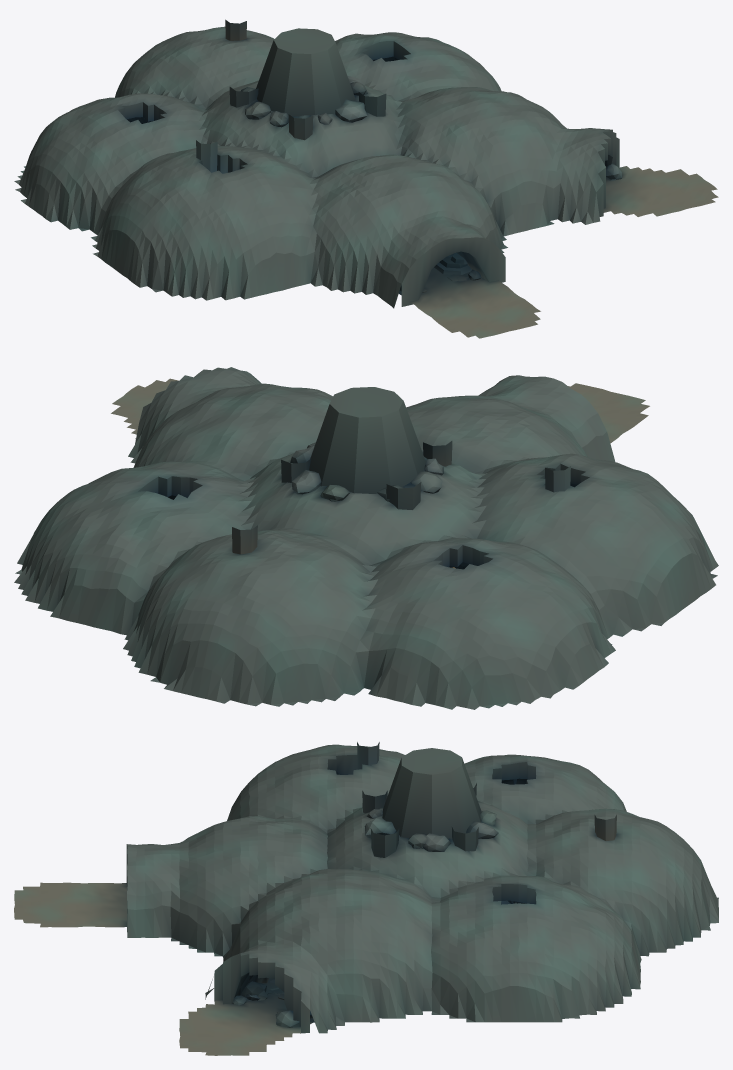
File: cave.glb
3 views of the same model, one above another, from view 1: azimuth 30°, elevation 25°; view 2: azimuth 150°, elevation 25°; view 3: azimuth 270°, elevation 25° (orthographic). The views are drawn at different scales.
Parts seen in each view (by area): view 1: rock_4_3, rock_4_4, rock_5_4, rock_5_3, rock_3_4, rock_3_5, rock_4_5, rock_6_3, rock_3_3, rock_5_5, rock_6_4, rock_6_5 (+5 smaller); view 2: rock_4_6, rock_4_5, rock_3_4, rock_5_5, rock_5_6, rock_3_5, rock_4_4, rock_3_6, rock_6_4, rock_5_4, rock_4_3, rock_6_6 (+5 smaller); view 3: rock_6_4, rock_6_5, rock_5_5, rock_5_3, rock_5_6, rock_5_4, rock_4_4, rock_6_3, rock_4_5, rock_6_6, rock_4_3, rock_5_2 (+5 smaller).
Part boxes in pixels (bbox=[...]): rock_4_3: bbox=[249, 169, 456, 308]; rock_4_4: bbox=[172, 48, 380, 206]; rock_5_4: bbox=[311, 43, 513, 168]; rock_5_3: bbox=[381, 141, 539, 293]; rock_3_4: bbox=[91, 140, 248, 293]; rock_3_5: bbox=[14, 101, 170, 235]; rock_4_5: bbox=[96, 40, 277, 153]; rock_6_3: bbox=[514, 132, 692, 227]; rock_3_3: bbox=[167, 207, 274, 300]; rock_5_5: bbox=[228, 28, 436, 101]; rock_6_4: bbox=[455, 87, 646, 182]; rock_6_5: bbox=[361, 32, 501, 91]; rock_4_6: bbox=[198, 540, 433, 706]; rock_4_5: bbox=[275, 410, 524, 608]; rock_3_4: bbox=[525, 464, 717, 636]; rock_5_5: bbox=[116, 387, 403, 551]; rock_5_6: bbox=[85, 525, 274, 697]; rock_3_5: bbox=[434, 537, 615, 703]; rock_4_4: bbox=[399, 401, 615, 568]; rock_3_6: bbox=[403, 609, 521, 709]; rock_6_4: bbox=[128, 375, 296, 467]; rock_5_4: bbox=[207, 387, 457, 476]; rock_4_3: bbox=[458, 376, 626, 466]; rock_6_6: bbox=[14, 526, 115, 624]; rock_6_4: bbox=[270, 888, 432, 1037]; rock_6_5: bbox=[431, 898, 588, 1022]; rock_5_5: bbox=[401, 748, 588, 911]; rock_5_3: bbox=[118, 832, 275, 961]; rock_5_6: bbox=[588, 814, 718, 973]; rock_5_4: bbox=[274, 758, 435, 910]; rock_4_4: bbox=[274, 742, 398, 844]; rock_6_3: bbox=[179, 905, 277, 1037]; rock_4_5: bbox=[468, 765, 588, 904]; rock_6_6: bbox=[587, 911, 640, 1014]; rock_4_3: bbox=[118, 773, 275, 904]; rock_5_2: bbox=[14, 904, 119, 927].
Size of the model in its own units: 187 by 52.06 by 211.
